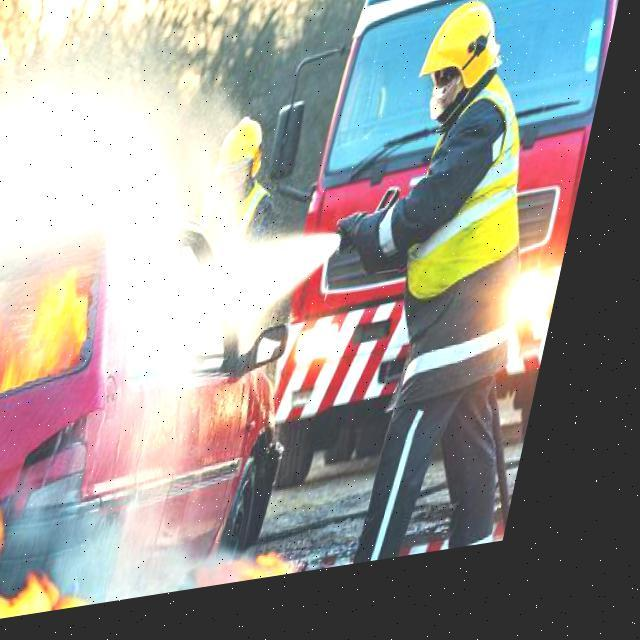Fire: (0, 242, 180, 638)
